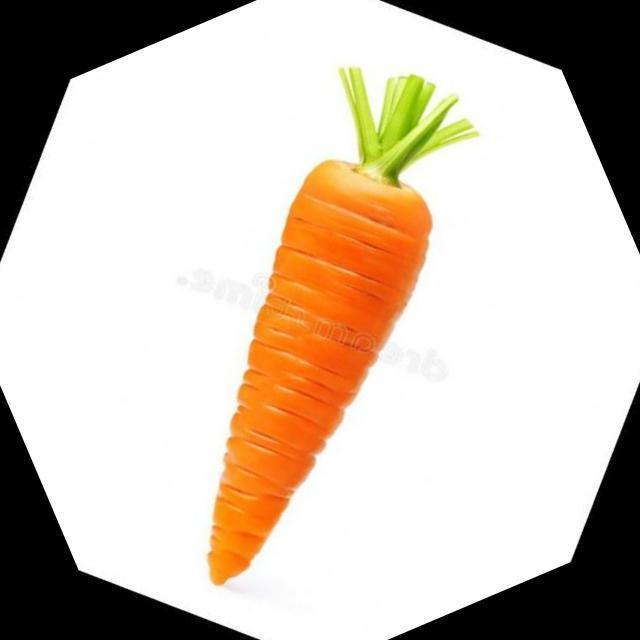Carrot: (208, 68, 478, 584)
